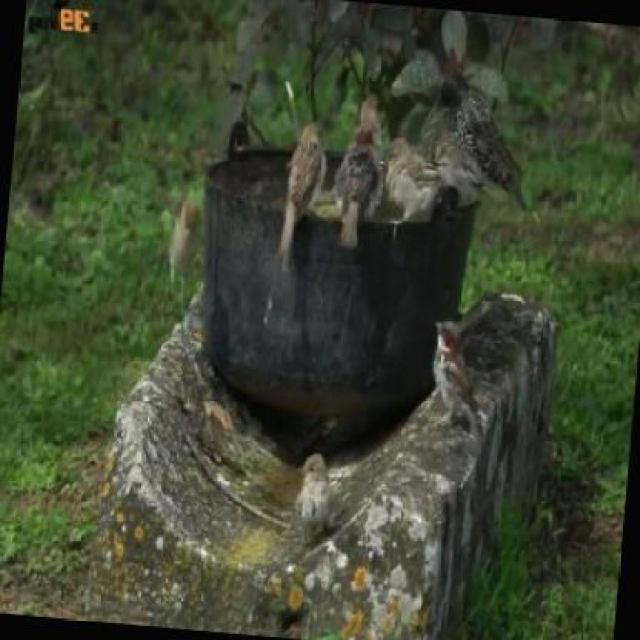Bird: (443, 71, 536, 216), (278, 120, 330, 276), (332, 122, 386, 250), (430, 316, 480, 430), (386, 136, 446, 227), (424, 127, 485, 208), (291, 449, 344, 536), (164, 197, 205, 281), (359, 92, 387, 128)
